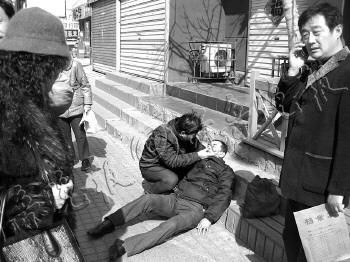falling: (85, 133, 239, 259)
